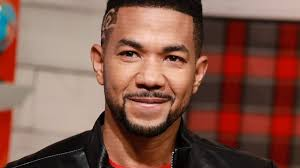black_male: (91, 17, 195, 133)
